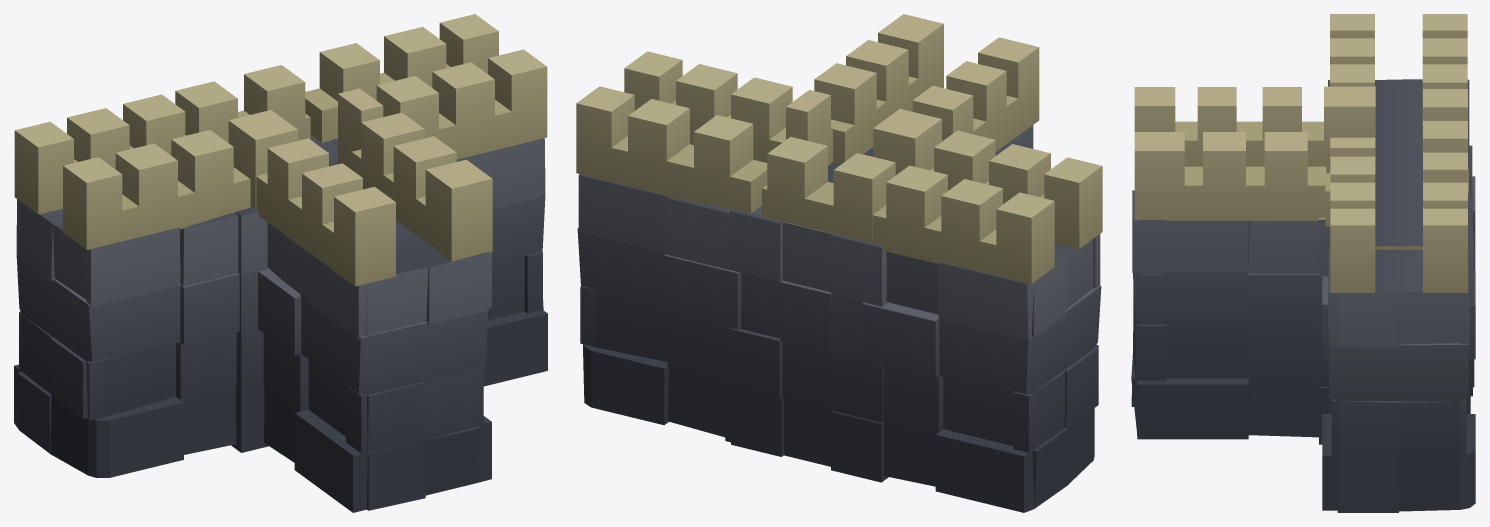
Rendered from Barricade_Classique_T.fbx.
3 renders of one model, left to right at view 1: azimuth 30°, elevation 25°; view 2: azimuth 150°, elevation 25°; view 3: azimuth 270°, elevation 25°, orthographic. The views are drawn at different scales.
Visible parts, largest first — view 1: Mur_T.001; view 2: Mur_T.001; view 3: Mur_T.001.
Part boxes in pixels (x1,y1,x2,y2): Mur_T.001: [14, 14, 547, 512]; Mur_T.001: [576, 14, 1102, 512]; Mur_T.001: [1131, 14, 1475, 512].
Size of the model in its own units: 517 by 327 by 348.
